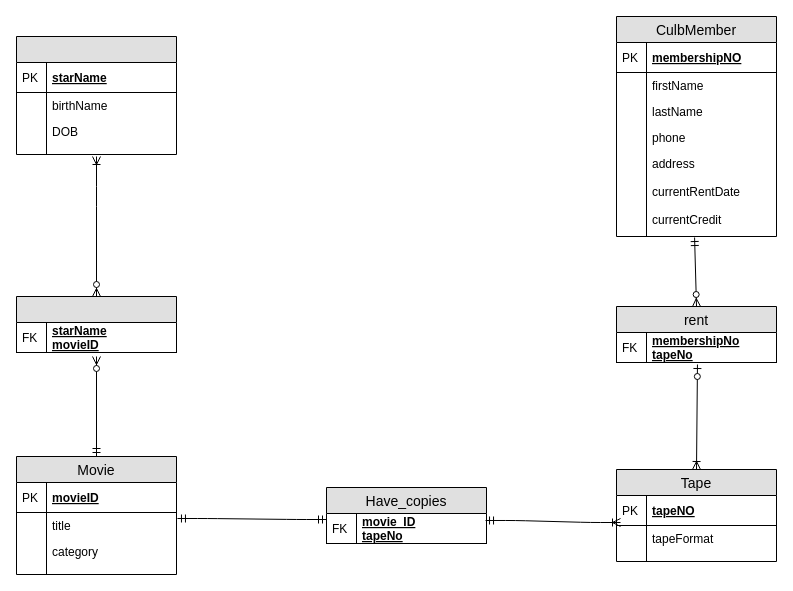
Some shapes in this 793 by 591 pixel diagram are drawn without their labels. Here are the shapes that lost their labels. From the top down, the box of each, then its label:
(16, 36, 176, 154): Staractor
(16, 296, 176, 352): Star_in
